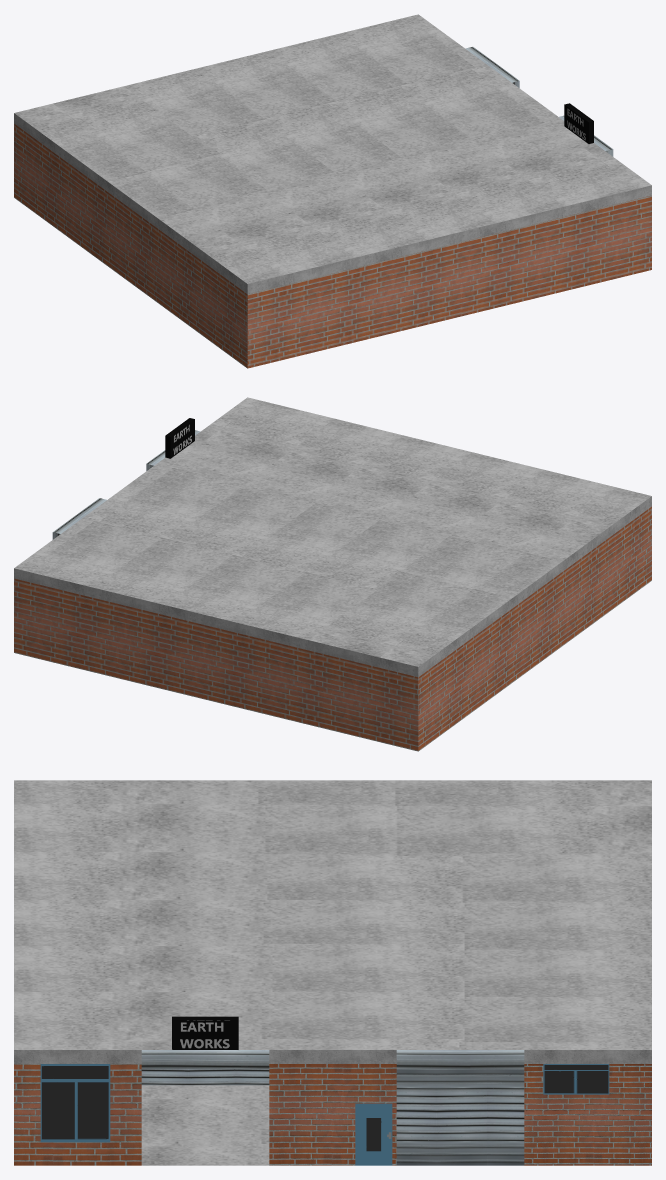
The model's file is EarthWorks.fbx.
3 renders of one model, top to bottom at view 1: azimuth 30°, elevation 25°; view 2: azimuth 150°, elevation 25°; view 3: azimuth 270°, elevation 25°, orthographic. The views are drawn at different scales.
Parts seen in each view (by area): view 1: EarthWorks; view 2: EarthWorks; view 3: EarthWorks.
Boxes of the visible parts, x1,y1,x2,y2 form: EarthWorks: (14, 14, 651, 368); EarthWorks: (14, 397, 651, 751); EarthWorks: (14, 780, 651, 1165).
Bounding box in the file's own units: 1529 × 377 × 1500.
